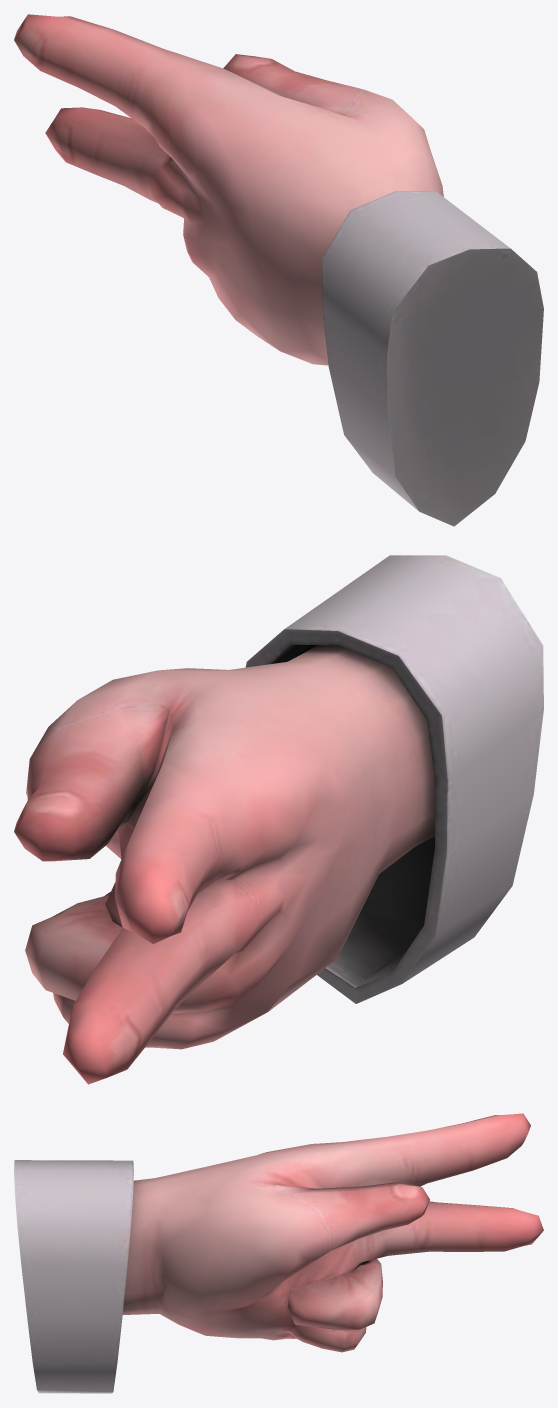
The model's file is avatar1-hand-left.glb.
The picture shows the model from 3 angles, top to bottom: view 1: azimuth 30°, elevation 25°; view 2: azimuth 150°, elevation 25°; view 3: azimuth 270°, elevation 25°; orthographic projection. The views are drawn at different scales.
Parts seen in each view (by area): view 1: hand-left; view 2: hand-left; view 3: hand-left.
Boxes of the visible parts, left/top/right/bottom form: hand-left: left=14, top=14, right=543, bottom=526; hand-left: left=14, top=555, right=543, bottom=1084; hand-left: left=14, top=1113, right=543, bottom=1393.
Bounding box in the file's own units: 0.1531 × 0.1858 × 0.3688.
Materials: 1 (1 with a texture image).
